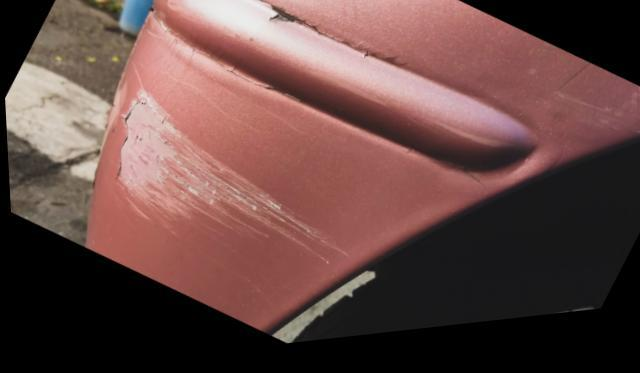scratch: (110, 89, 343, 270)
